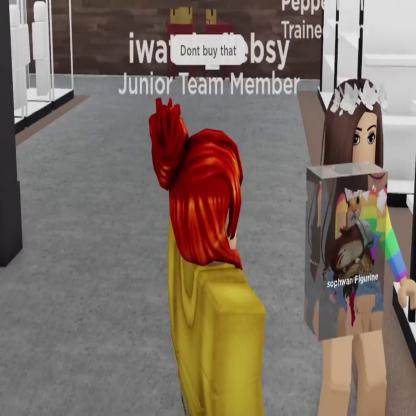Roblox-Avatar: (150, 98, 266, 416), (309, 79, 416, 416)
